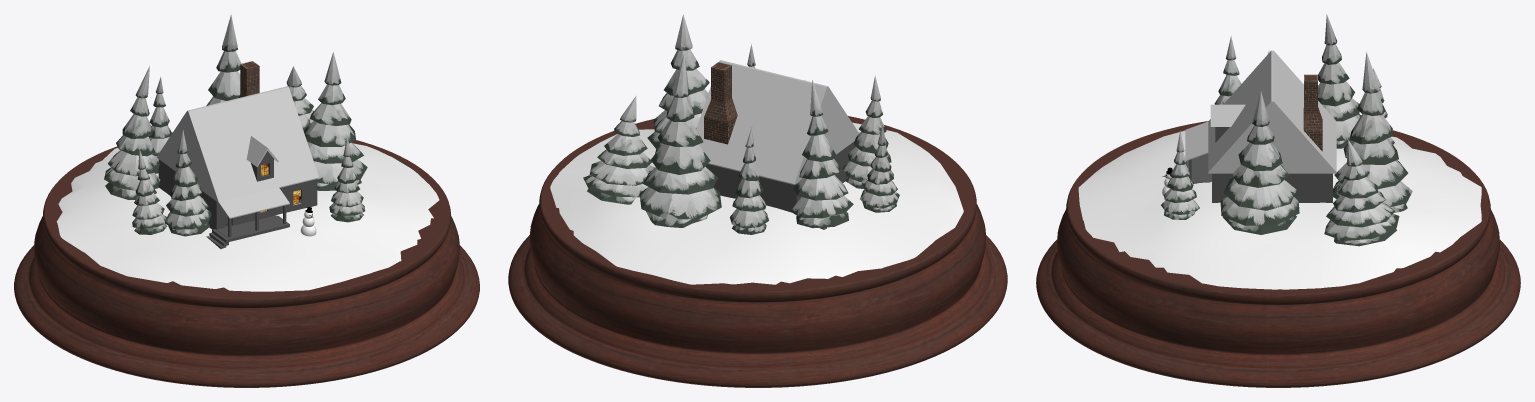
The picture shows the model from 3 angles, left to right: view 1: azimuth 30°, elevation 25°; view 2: azimuth 150°, elevation 25°; view 3: azimuth 270°, elevation 25°; orthographic projection. The views are drawn at different scales.
Parts seen in each view (by area): view 1: pCylinder1, pPlane6, pCube2, pCone11, pCone10, pCone9, pCube16, pCone12, pinetree:pCone9, pCone14, pCube5, pCone13 (+3 smaller); view 2: pCylinder1, pPlane6, pCube2, pCone12, pCone10, pCone15, pCone11, pCone13, pCone9, pCube16, pCube17, pCone14; view 3: pCylinder1, pPlane6, pCube2, pCone11, pCone12, pCone15, pCone10, pinetree:pCone9, pCube16, pCube17, pCone9, pCube4 (+1 smaller).
Part boxes in pixels (x1=…): pCylinder1: x1=14, y1=132, x2=479, y2=387; pPlane6: x1=56, y1=137, x2=439, y2=291; pCube2: x1=157, y1=86, x2=319, y2=218; pCone11: x1=303, y1=52, x2=367, y2=190; pCone10: x1=104, y1=66, x2=160, y2=199; pCone9: x1=165, y1=129, x2=211, y2=236; pCube16: x1=158, y1=159, x2=317, y2=229; pCone12: x1=206, y1=14, x2=241, y2=105; pinetree:pCone9: x1=329, y1=136, x2=365, y2=222; pCone14: x1=132, y1=148, x2=166, y2=234; pCube5: x1=206, y1=215, x2=289, y2=248; pCone13: x1=148, y1=77, x2=171, y2=173; pCylinder1: x1=508, y1=116, x2=1007, y2=387; pPlane6: x1=550, y1=122, x2=963, y2=284; pCube2: x1=696, y1=60, x2=859, y2=184; pCone12: x1=639, y1=54, x2=721, y2=227; pCone10: x1=790, y1=80, x2=853, y2=229; pCone15: x1=583, y1=96, x2=654, y2=204; pCone11: x1=647, y1=14, x2=709, y2=153; pCone13: x1=730, y1=126, x2=768, y2=234; pCone9: x1=842, y1=75, x2=893, y2=189; pCube16: x1=705, y1=141, x2=855, y2=212; pCube17: x1=704, y1=62, x2=737, y2=144; pCone14: x1=860, y1=124, x2=899, y2=212; pCylinder1: x1=1036, y1=121, x2=1520, y2=387; pPlane6: x1=1078, y1=130, x2=1481, y2=289; pCube2: x1=1185, y1=50, x2=1336, y2=173; pCone11: x1=1220, y1=91, x2=1299, y2=234; pCone12: x1=1333, y1=52, x2=1412, y2=212; pCone15: x1=1324, y1=140, x2=1399, y2=246; pCone10: x1=1318, y1=14, x2=1360, y2=148; pinetree:pCone9: x1=1161, y1=131, x2=1199, y2=219; pCube16: x1=1212, y1=173, x2=1332, y2=202; pCube17: x1=1303, y1=74, x2=1322, y2=151; pCone9: x1=1214, y1=36, x2=1241, y2=104; pCube4: x1=1210, y1=104, x2=1245, y2=126.
Size of what is drawn, in the model's own units: 1.78 by 1 by 1.78.
